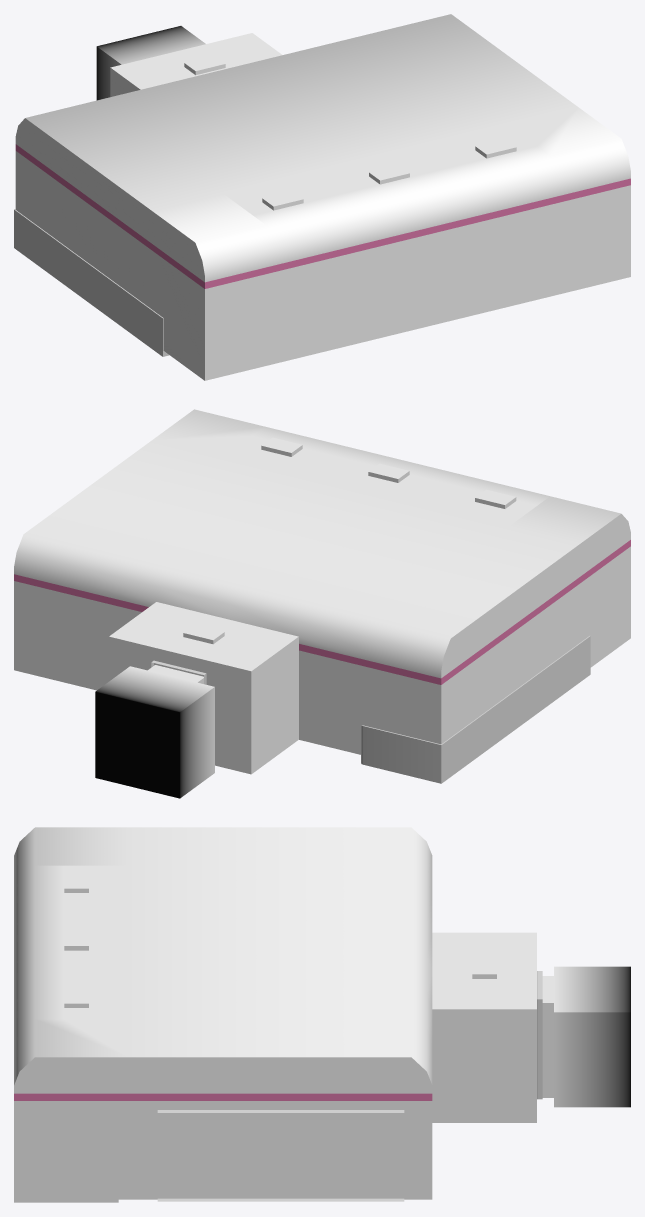
The model's file is ShowerRoom.fbx.
3 views of the same model, one above another, from view 1: azimuth 30°, elevation 25°; view 2: azimuth 150°, elevation 25°; view 3: azimuth 270°, elevation 25° (orthographic). The views are drawn at different scales.
Parts seen in each view (by area): view 1: showerroom_base, showerroom_tubs; view 2: showerroom_base, showerroom_tubs; view 3: showerroom_base, Cube.001, DoorJam.
Boxes of the visible parts, x1,y1,x2,y2 form: showerroom_base: [15, 14, 630, 380]; showerroom_tubs: [14, 209, 169, 356]; showerroom_base: [14, 409, 630, 798]; showerroom_tubs: [361, 636, 590, 783]; showerroom_base: [14, 827, 630, 1202]; Cube.001: [157, 1110, 404, 1201]; DoorJam: [537, 971, 542, 1099].
Size of the model in its own units: 1056 by 329 by 1180.
